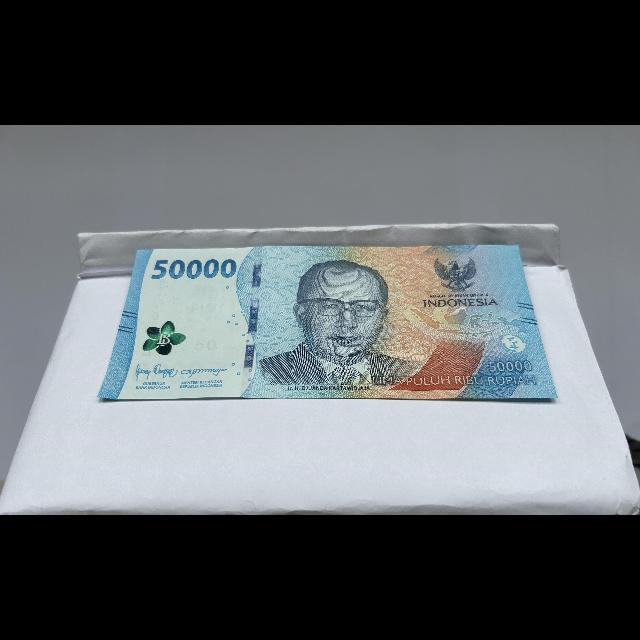Asli-50k: (96, 242, 561, 402)
Tinta-Asli-50k: (139, 315, 193, 362)
